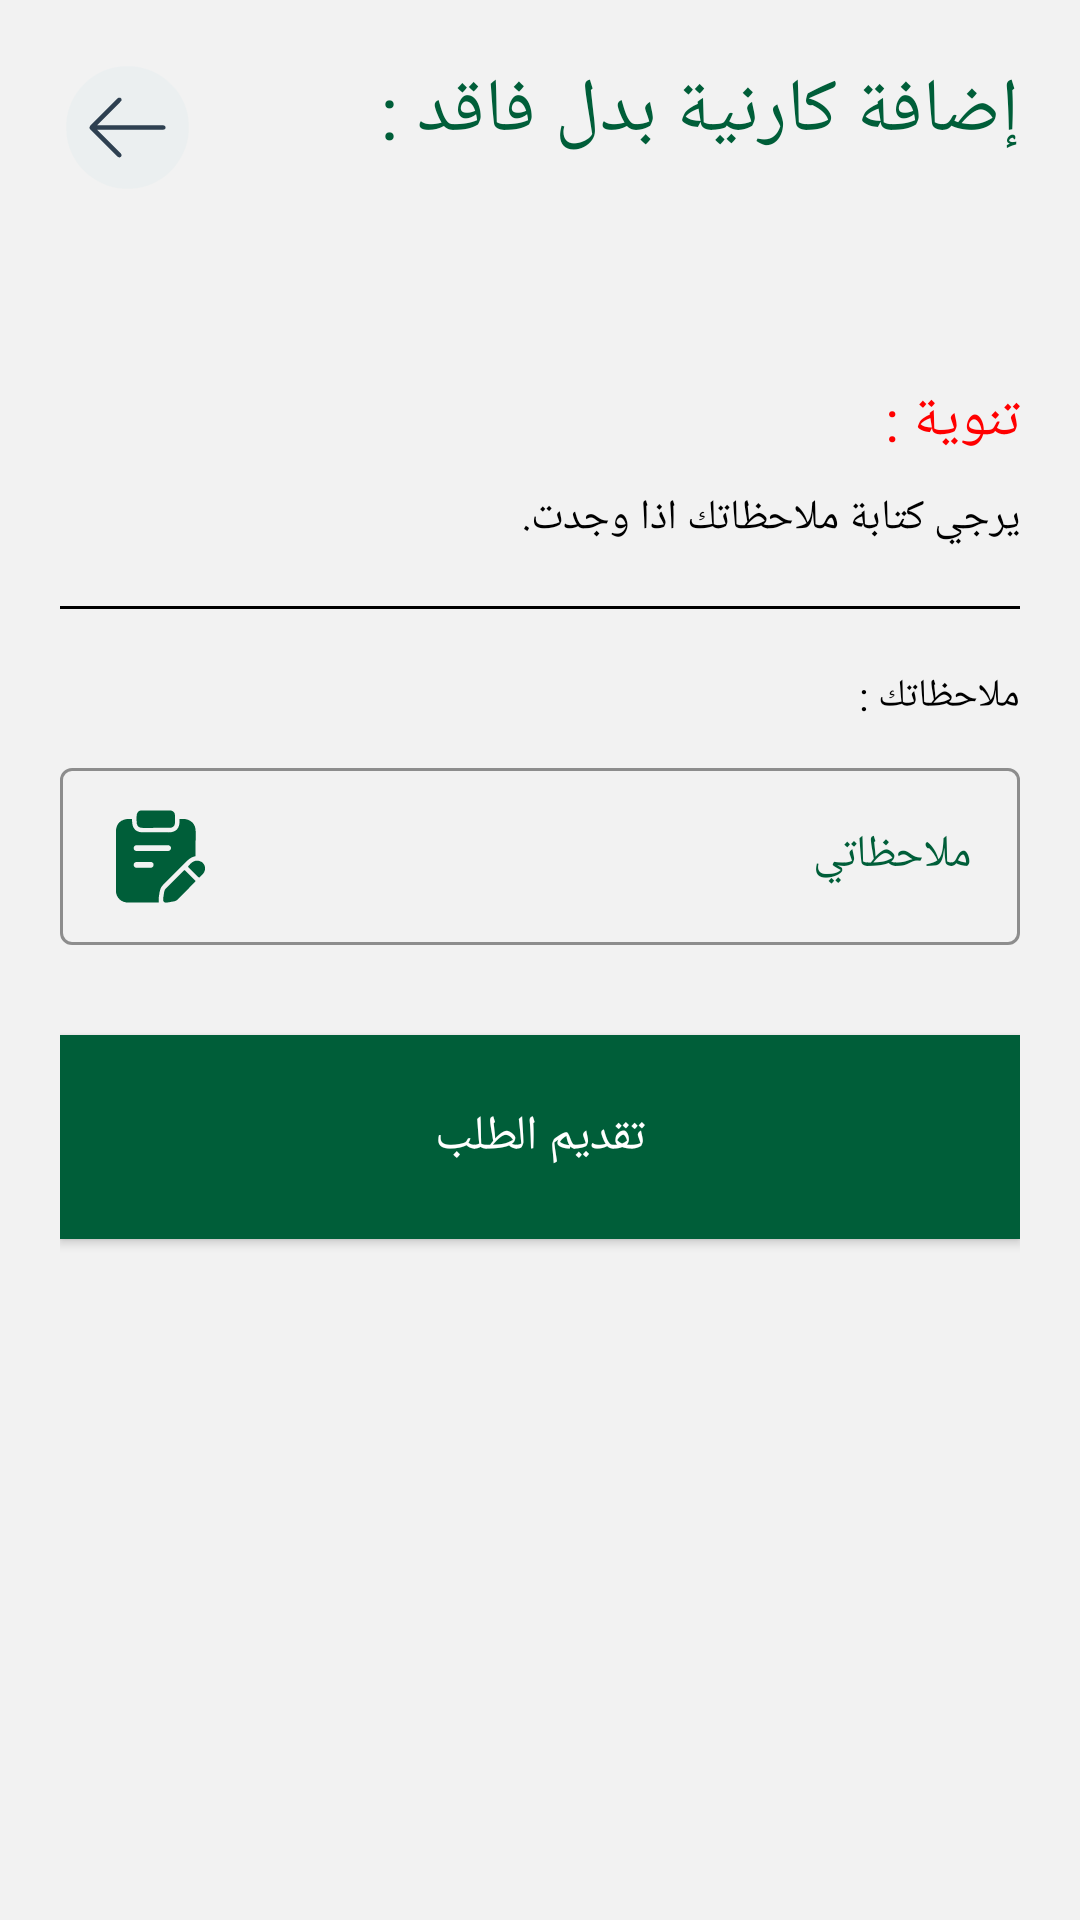

Icons on this 1080w x 1920h Android screen, each with its box as bbox=[x1, y1, x2, y2]:
left arrow: bbox=[89, 97, 166, 158]
